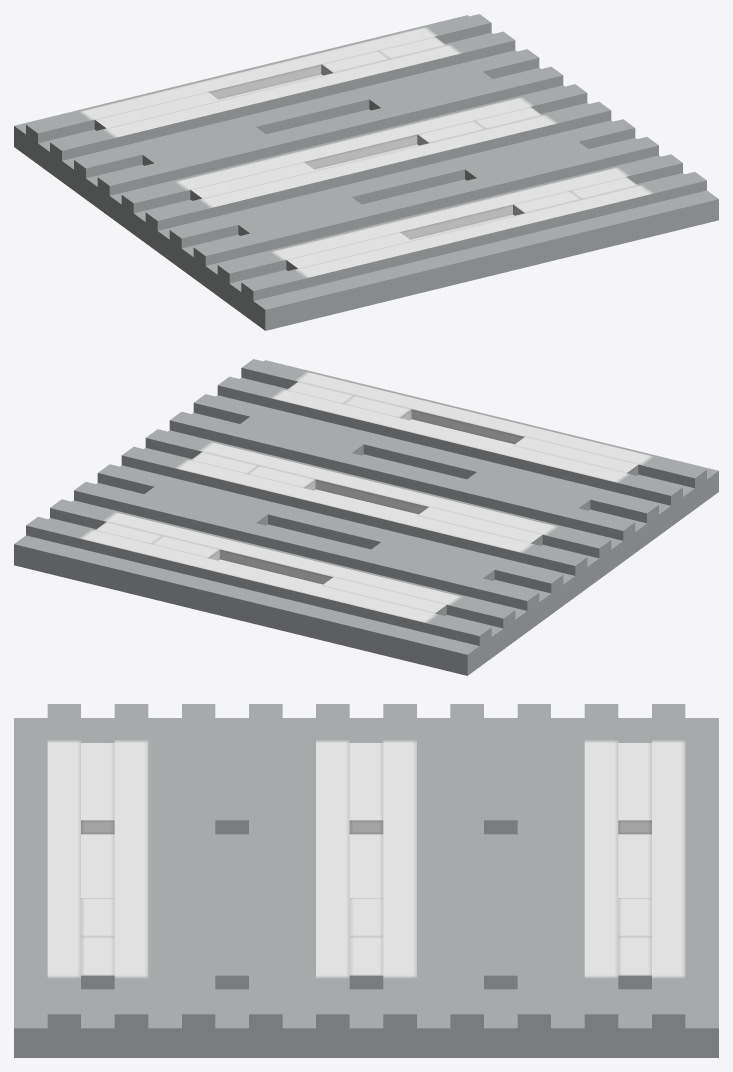
The model's file is warehouse_roof.fbx.
The picture shows the model from 3 angles, top to bottom: view 1: azimuth 30°, elevation 25°; view 2: azimuth 150°, elevation 25°; view 3: azimuth 270°, elevation 25°; orthographic projection. The views are drawn at different scales.
Visible parts, largest first — view 1: Cube; view 2: Cube; view 3: Cube.
Part boxes in pixels (box(x1,y1,x2,y2)): Cube: box(14, 14, 718, 330); Cube: box(14, 359, 718, 675); Cube: box(14, 704, 718, 1057).
Bounding box in the file's own units: 552 × 36.08 × 530.
1 material, 1 textured.
